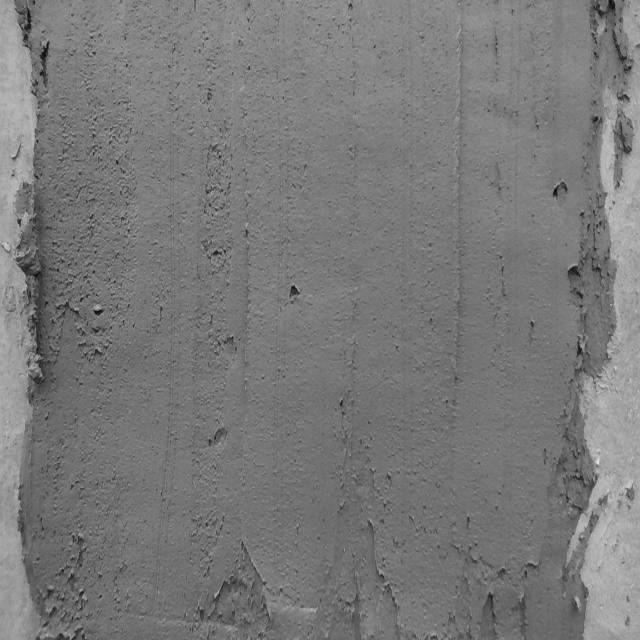trowels marks: (234, 0, 258, 550), (452, 5, 474, 451), (448, 454, 452, 460)
